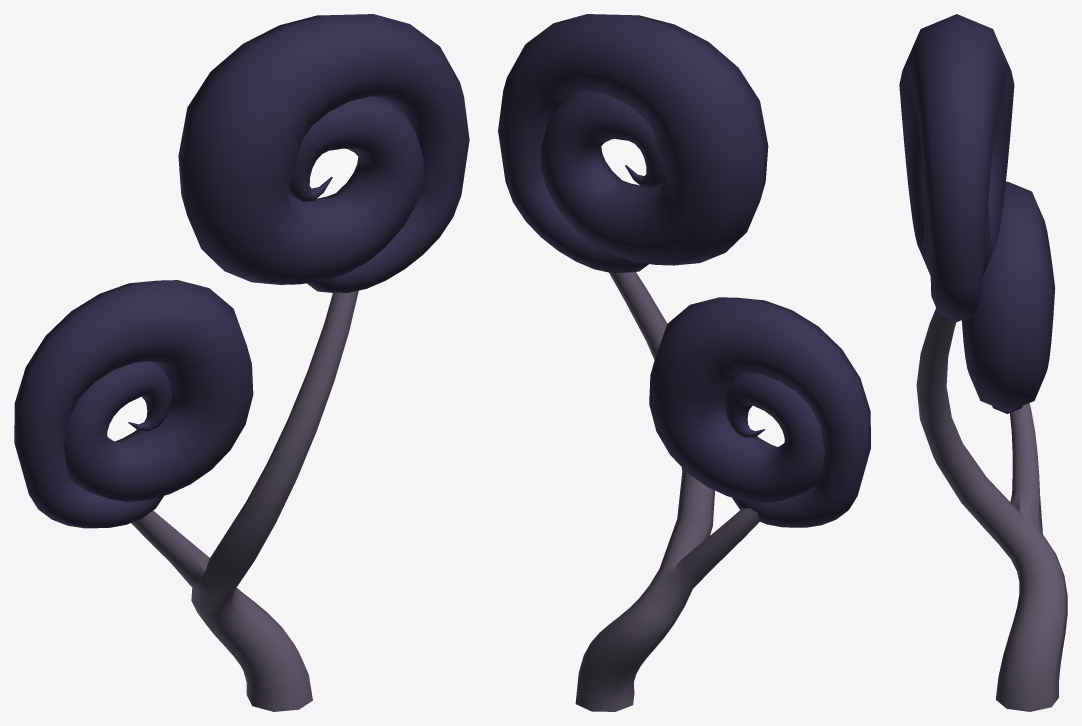
File: tree_swirl_1.glb
3 renders of one model, left to right at view 1: azimuth 30°, elevation 25°; view 2: azimuth 150°, elevation 25°; view 3: azimuth 270°, elevation 25°, orthographic. The views are drawn at different scales.
Visible parts, largest first — view 1: Tree_Swirl_1; view 2: Tree_Swirl_1; view 3: Tree_Swirl_1.
Boxes of the visible parts, x1,y1,x2,y2 form: Tree_Swirl_1: [14, 14, 469, 711]; Tree_Swirl_1: [498, 14, 870, 711]; Tree_Swirl_1: [899, 14, 1067, 711].
Bounding box in the file's own units: 4.61 × 7.35 × 1.68.
1 material, 1 textured.
